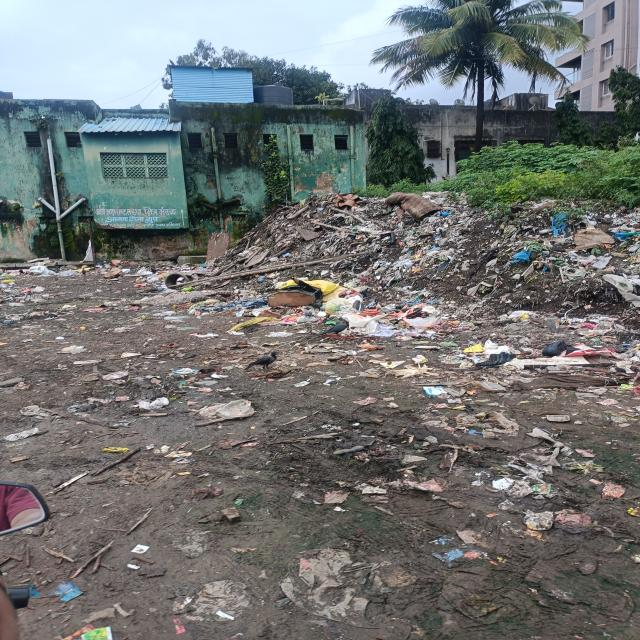garbage: (297, 196, 639, 315), (278, 417, 590, 545), (320, 310, 640, 398), (88, 199, 294, 325), (1, 258, 150, 277), (1, 279, 45, 320)
